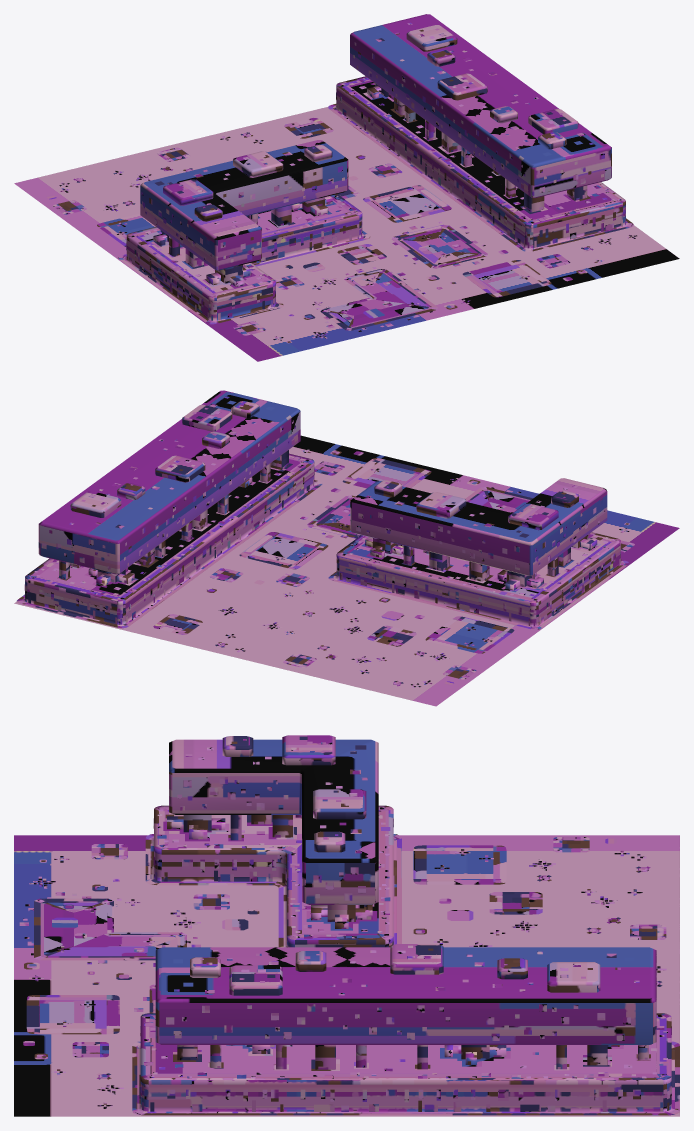
The model's file is C_forest2_07.fbx.
3 renders of one model, top to bottom at view 1: azimuth 30°, elevation 25°; view 2: azimuth 150°, elevation 25°; view 3: azimuth 270°, elevation 25°, orthographic. The views are drawn at different scales.
Parts seen in each view (by area): view 1: C_forest2_07.001; view 2: C_forest2_07.001; view 3: C_forest2_07.001.
Part boxes in pixels (bbox=[...]): C_forest2_07.001: bbox=[14, 14, 679, 361]; C_forest2_07.001: bbox=[14, 390, 679, 706]; C_forest2_07.001: bbox=[14, 735, 679, 1116].
Bounding box in the file's own units: 50 × 9.64 × 50.
